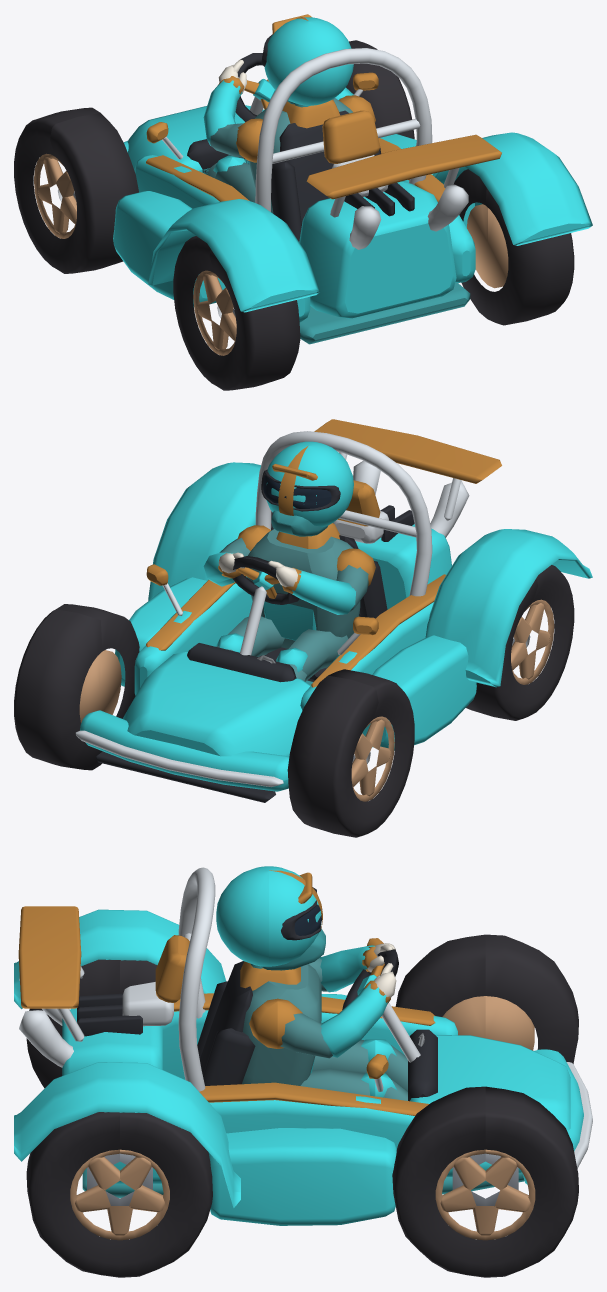
File: kart_7.glb
The picture shows the model from 3 angles, top to bottom: view 1: azimuth 30°, elevation 25°; view 2: azimuth 150°, elevation 25°; view 3: azimuth 270°, elevation 25°; orthographic projection. The views are drawn at different scales.
Visible parts, largest first — view 1: bodyPaint, bodyFenders, WheelFL_tyre, WheelRL_tyre, WheelRR_tyre, bodyChrome, bodyPlastic, driverHelmet, driverArms, driverTorso, WheelFR_tyre, steeringWheel; view 2: bodyPaint, bodyFenders, WheelFL_tyre, WheelFR_tyre, bodyChrome, driverTorso, WheelRL_tyre, driverHelmet, bodyPlastic, driverArms, steeringWheel, driverVisor; view 3: bodyPaint, WheelFR_tyre, WheelRR_tyre, bodyFenders, WheelFL_tyre, bodyChrome, driverTorso, bodyPlastic, driverHelmet, driverArms, WheelRL_tyre, steeringWheel (+1 smaller).
Part boxes in pixels (x1,y1,x2,y2): bodyPaint: [113, 72, 501, 322]; bodyFenders: [148, 132, 592, 312]; WheelFL_tyre: [14, 107, 138, 273]; WheelRL_tyre: [173, 236, 300, 390]; WheelRR_tyre: [453, 169, 574, 325]; bodyChrome: [162, 48, 468, 249]; bodyPlastic: [187, 110, 470, 344]; driverHelmet: [261, 14, 353, 105]; driverArms: [203, 59, 375, 162]; driverTorso: [207, 98, 352, 213]; WheelFR_tyre: [346, 40, 414, 139]; steeringWheel: [235, 53, 275, 121]; bodyPaint: [80, 419, 501, 791]; bodyFenders: [148, 462, 592, 687]; WheelFL_tyre: [287, 669, 414, 837]; WheelFR_tyre: [14, 604, 139, 770]; bodyChrome: [75, 431, 469, 786]; driverTorso: [216, 523, 360, 681]; WheelRL_tyre: [466, 565, 574, 720]; driverHelmet: [261, 441, 353, 536]; bodyPlastic: [96, 505, 414, 802]; driverArms: [203, 525, 375, 614]; steeringWheel: [232, 556, 299, 604]; driverVisor: [263, 475, 331, 508]; bodyPaint: [18, 906, 583, 1225]; WheelFR_tyre: [392, 1086, 578, 1277]; WheelRR_tyre: [26, 1112, 212, 1277]; bodyFenders: [14, 909, 240, 1208]; WheelFL_tyre: [395, 934, 578, 1063]; bodyChrome: [19, 867, 592, 1168]; driverTorso: [240, 961, 407, 1100]; bodyPlastic: [77, 961, 524, 1198]; driverHelmet: [216, 866, 325, 970]; driverArms: [249, 943, 396, 1058]; WheelRL_tyre: [26, 959, 157, 1088]; steeringWheel: [342, 949, 398, 1009].
Bounding box in the file's own units: 1.86 × 1.43 × 2.31.
